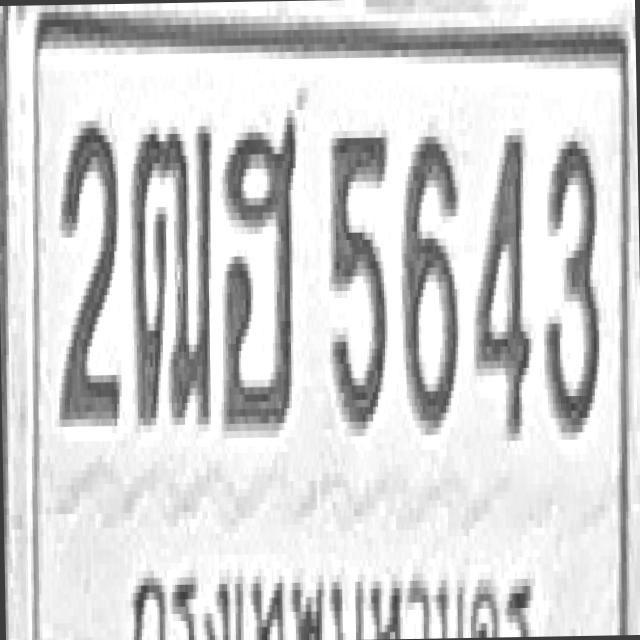2: (52, 112, 120, 426)
27ThorPhuThao: (128, 118, 217, 425)
3: (540, 134, 600, 432)
4: (471, 128, 531, 441)
5: (326, 126, 391, 433)
53HorNokHook: (215, 110, 302, 430)
6: (399, 125, 462, 431)
